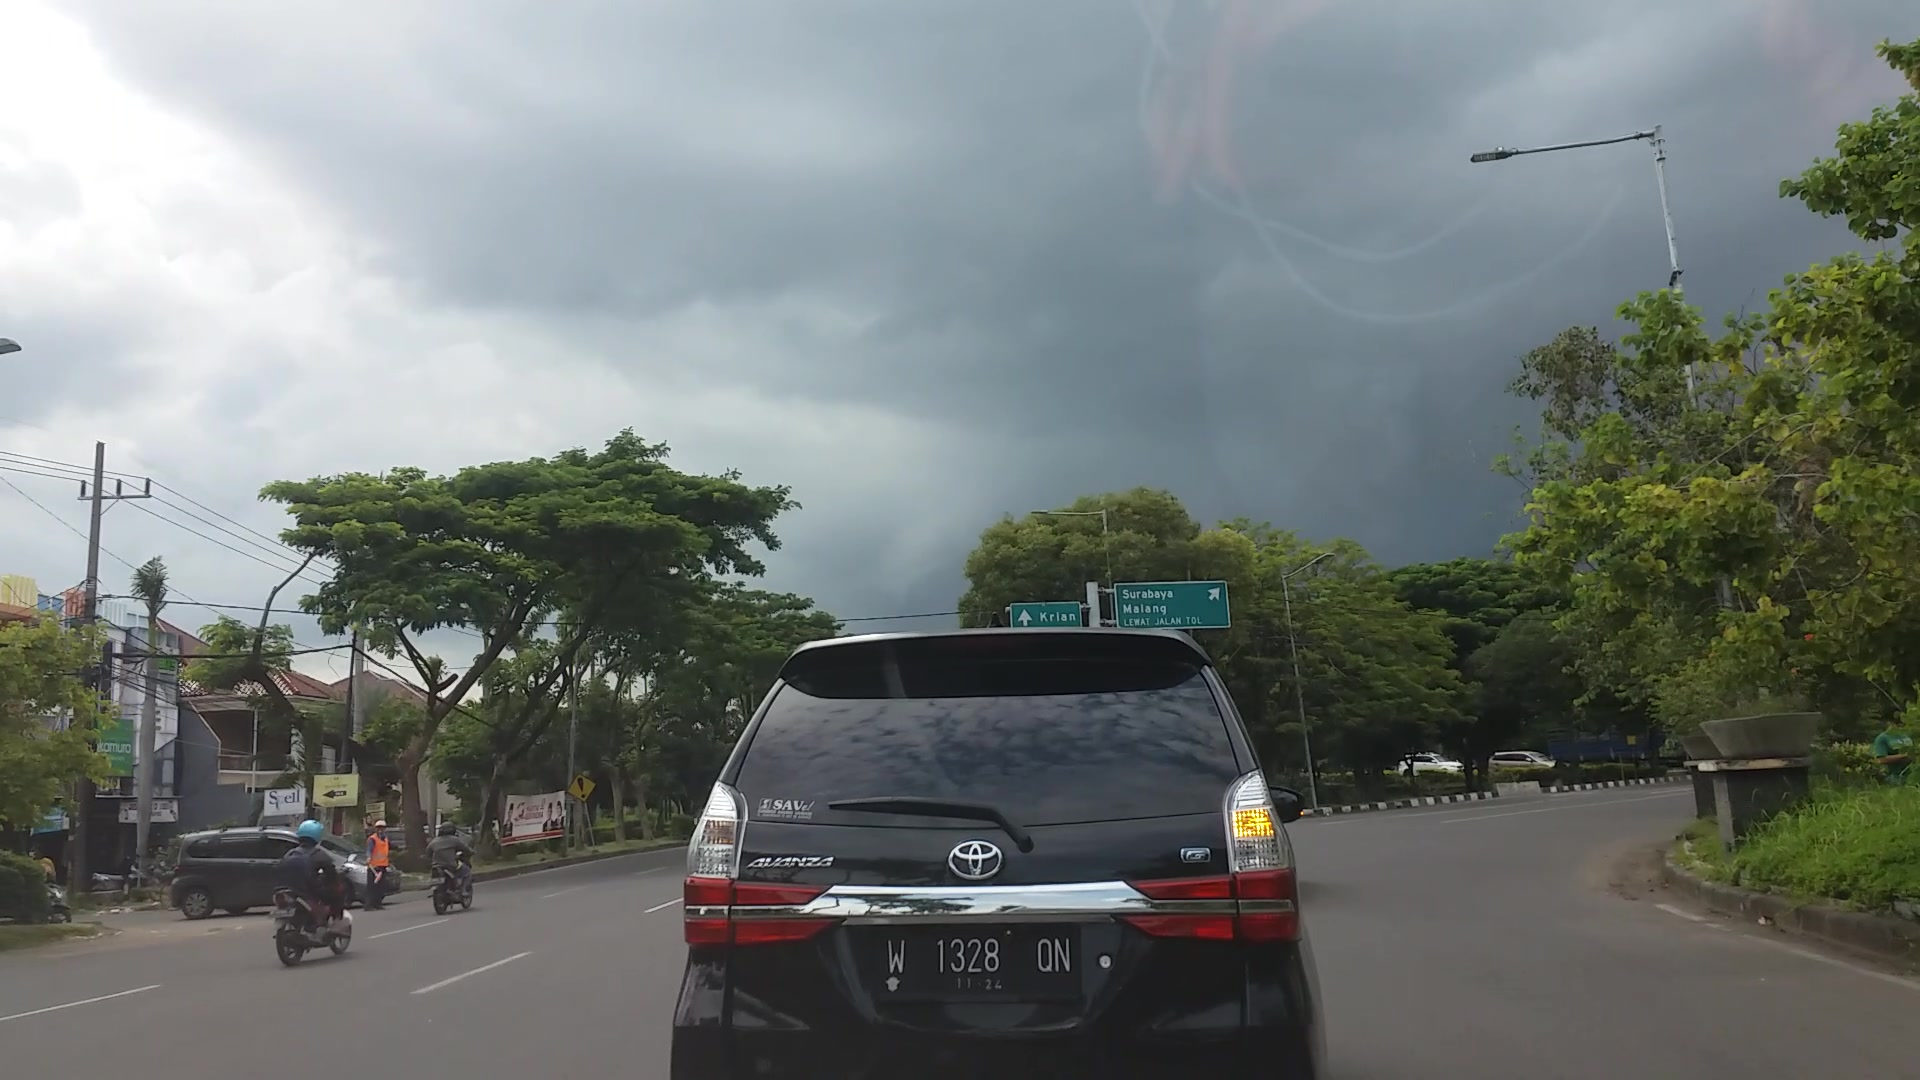plate_positive: (880, 926, 1075, 996)
